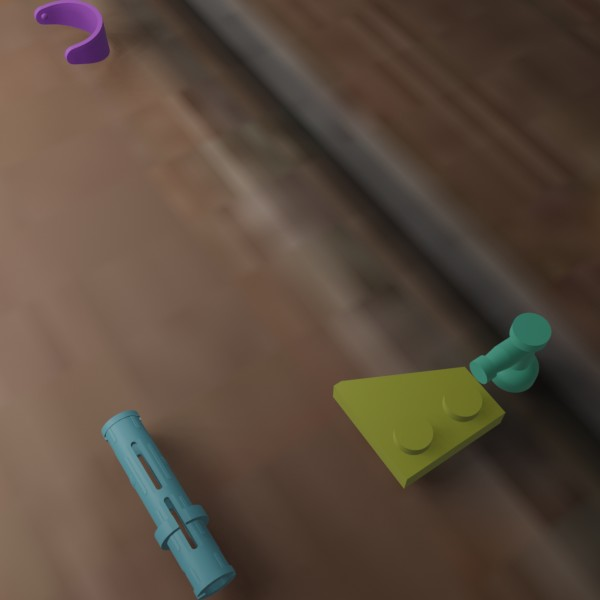lego: (101, 410, 236, 600), (333, 366, 505, 488), (469, 312, 551, 392), (34, 0, 109, 64)
